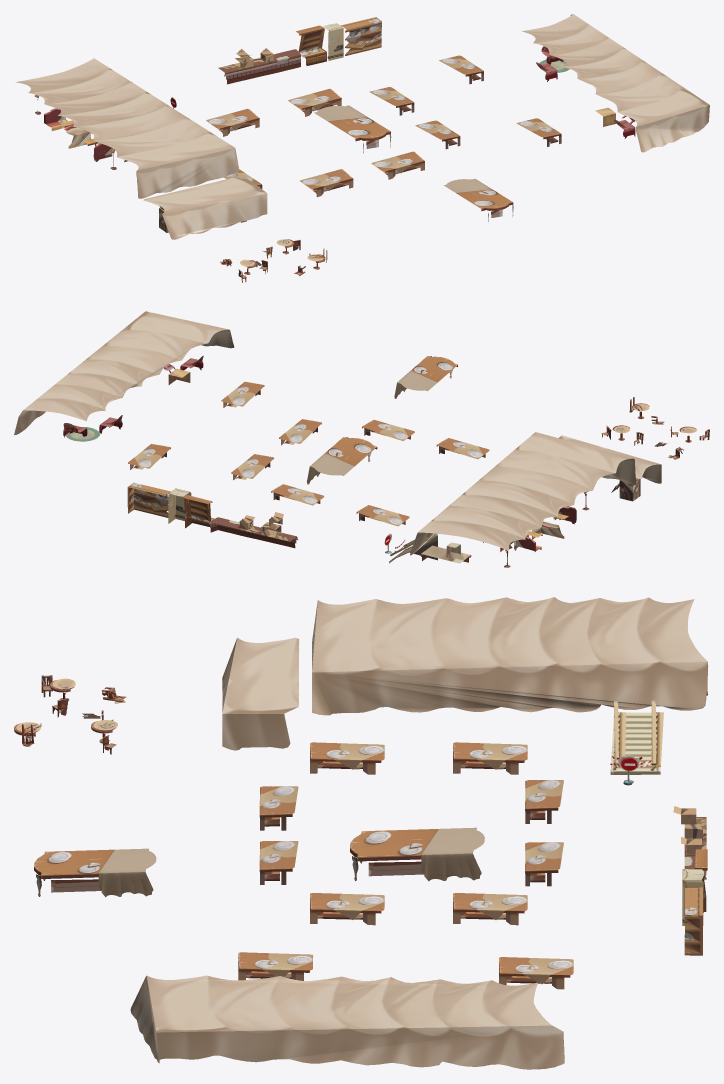
3 renders of one model, top to bottom at view 1: azimuth 30°, elevation 25°; view 2: azimuth 150°, elevation 25°; view 3: azimuth 270°, elevation 25°, orthographic. The views are drawn at different scales.
Visible parts, largest first — view 1: erloumubu, zuoweimubu, jiubamubu, facility_20050, stall_20140, facility_20060, facility_20030, facility_20020, facility_20010, stall_20020, stall_20080, stall_20010 (+5 smaller); view 2: erloumubu, zuoweimubu, facility_20050, stall_20140, facility_20060, facility_20020, facility_20010, facility_20030, jiubamubu, stall_20030, stall_20050, stall_20090 (+8 smaller); view 3: erloumubu, zuoweimubu, jiubamubu, stall_20140, facility_20060, facility_20050, decoration_20050, facility_20010, stall_20100, stall_20110, stall_20030, stall_20040 (+6 smaller).
Part boxes in pixels (x1=…): erloumubu: x1=15, y1=58, x2=239, y2=198; zuoweimubu: x1=522, y1=14, x2=709, y2=152; jiubamubu: x1=143, y1=177, x2=267, y2=239; facility_20050: x1=218, y1=17, x2=381, y2=84; stall_20140: x1=314, y1=105, x2=391, y2=153; facility_20060: x1=444, y1=178, x2=513, y2=221; facility_20030: x1=44, y1=108, x2=128, y2=162; facility_20020: x1=536, y1=46, x2=635, y2=138; facility_20010: x1=220, y1=239, x2=327, y2=282; stall_20020: x1=300, y1=169, x2=353, y2=196; stall_20080: x1=371, y1=151, x2=424, y2=179; stall_20010: x1=206, y1=108, x2=259, y2=136; erloumubu: x1=410, y1=432, x2=636, y2=555; zuoweimubu: x1=14, y1=311, x2=234, y2=435; facility_20050: x1=127, y1=482, x2=297, y2=548; stall_20140: x1=307, y1=437, x2=377, y2=484; facility_20060: x1=394, y1=356, x2=457, y2=398; facility_20020: x1=63, y1=355, x2=203, y2=441; facility_20010: x1=601, y1=397, x2=709, y2=459; facility_20030: x1=483, y1=506, x2=576, y2=551; jiubamubu: x1=558, y1=435, x2=661, y2=483; stall_20030: x1=231, y1=454, x2=273, y2=480; stall_20050: x1=221, y1=381, x2=264, y2=407; stall_20090: x1=271, y1=484, x2=324, y2=505; erloumubu: x1=312, y1=597, x2=708, y2=715; zuoweimubu: x1=130, y1=975, x2=564, y2=1069; jiubamubu: x1=222, y1=637, x2=299, y2=750; stall_20140: x1=350, y1=827, x2=484, y2=881; facility_20060: x1=34, y1=848, x2=156, y2=897; facility_20050: x1=673, y1=806, x2=707, y2=955; decoration_20050: x1=610, y1=700, x2=663, y2=785; facility_20010: x1=14, y1=675, x2=126, y2=754; stall_20100: x1=310, y1=742, x2=384, y2=774; stall_20110: x1=453, y1=742, x2=527, y2=774; stall_20030: x1=453, y1=893, x2=527, y2=925; stall_20040: x1=310, y1=893, x2=384, y2=925.
Bounding box in the file's own units: 41.34 × 4.04 × 30.47.
1 material, 1 textured.
